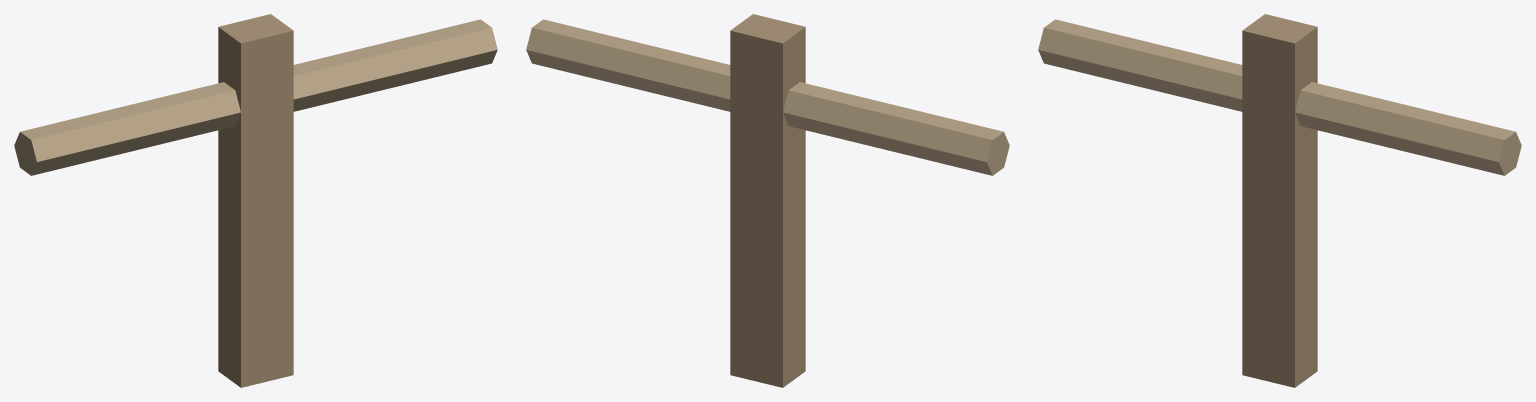
Rendered from arbalest.glb.
3 views of the same model, side by side, from view 1: azimuth 30°, elevation 25°; view 2: azimuth 150°, elevation 25°; view 3: azimuth 330°, elevation 25° (orthographic).
Visible parts, largest first — view 1: arbalest; view 2: arbalest; view 3: arbalest.
Part boxes in pixels (x1,y1,x2,y2): arbalest: [14, 14, 497, 387]; arbalest: [526, 14, 1009, 387]; arbalest: [1038, 14, 1521, 387].
Bounding box in the file's own units: 0.7 × 0.5 × 0.06.
